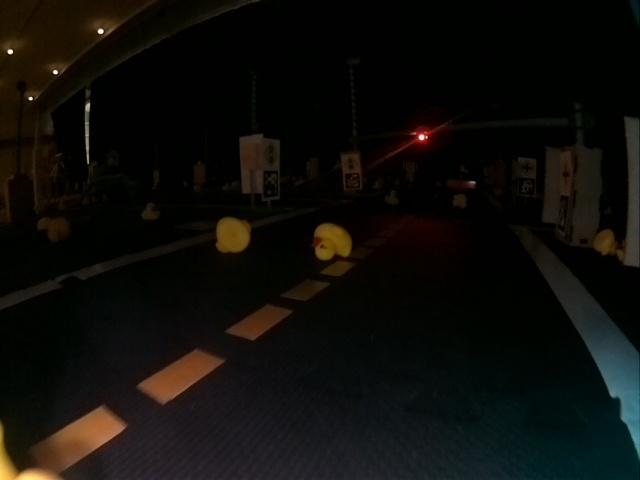Duckie: (312, 222, 351, 261), (219, 218, 252, 252), (594, 230, 614, 254), (455, 194, 465, 205), (387, 191, 396, 201)
Intersection sign: (560, 160, 570, 188), (520, 162, 534, 175)
QR code: (262, 171, 279, 197), (556, 198, 567, 228), (345, 173, 361, 188), (521, 178, 533, 195)
Signal sign: (264, 142, 279, 166), (343, 155, 356, 166)
Traffic light: (417, 132, 427, 140)
